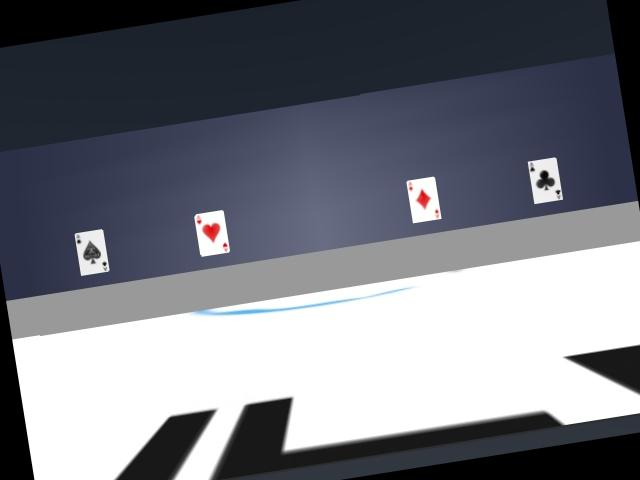club: (528, 157, 563, 203), (75, 229, 109, 275)
diamond: (406, 177, 441, 222)
heart: (194, 210, 229, 256)
